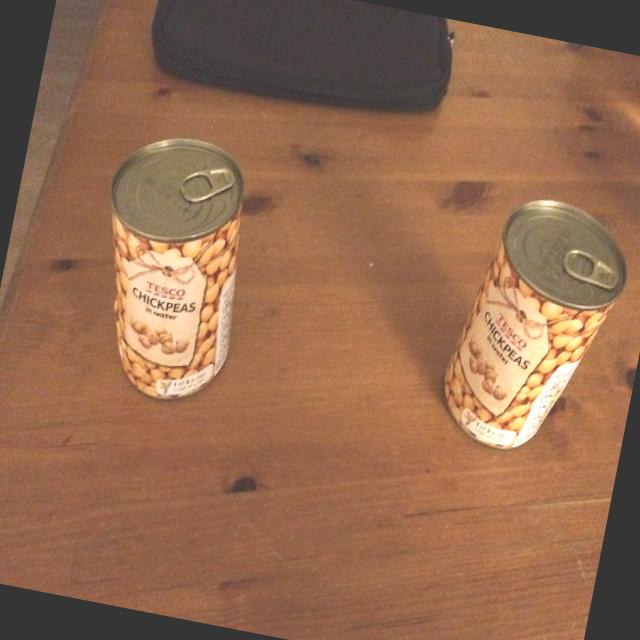Recycle: (431, 184, 640, 470), (72, 121, 268, 412)
